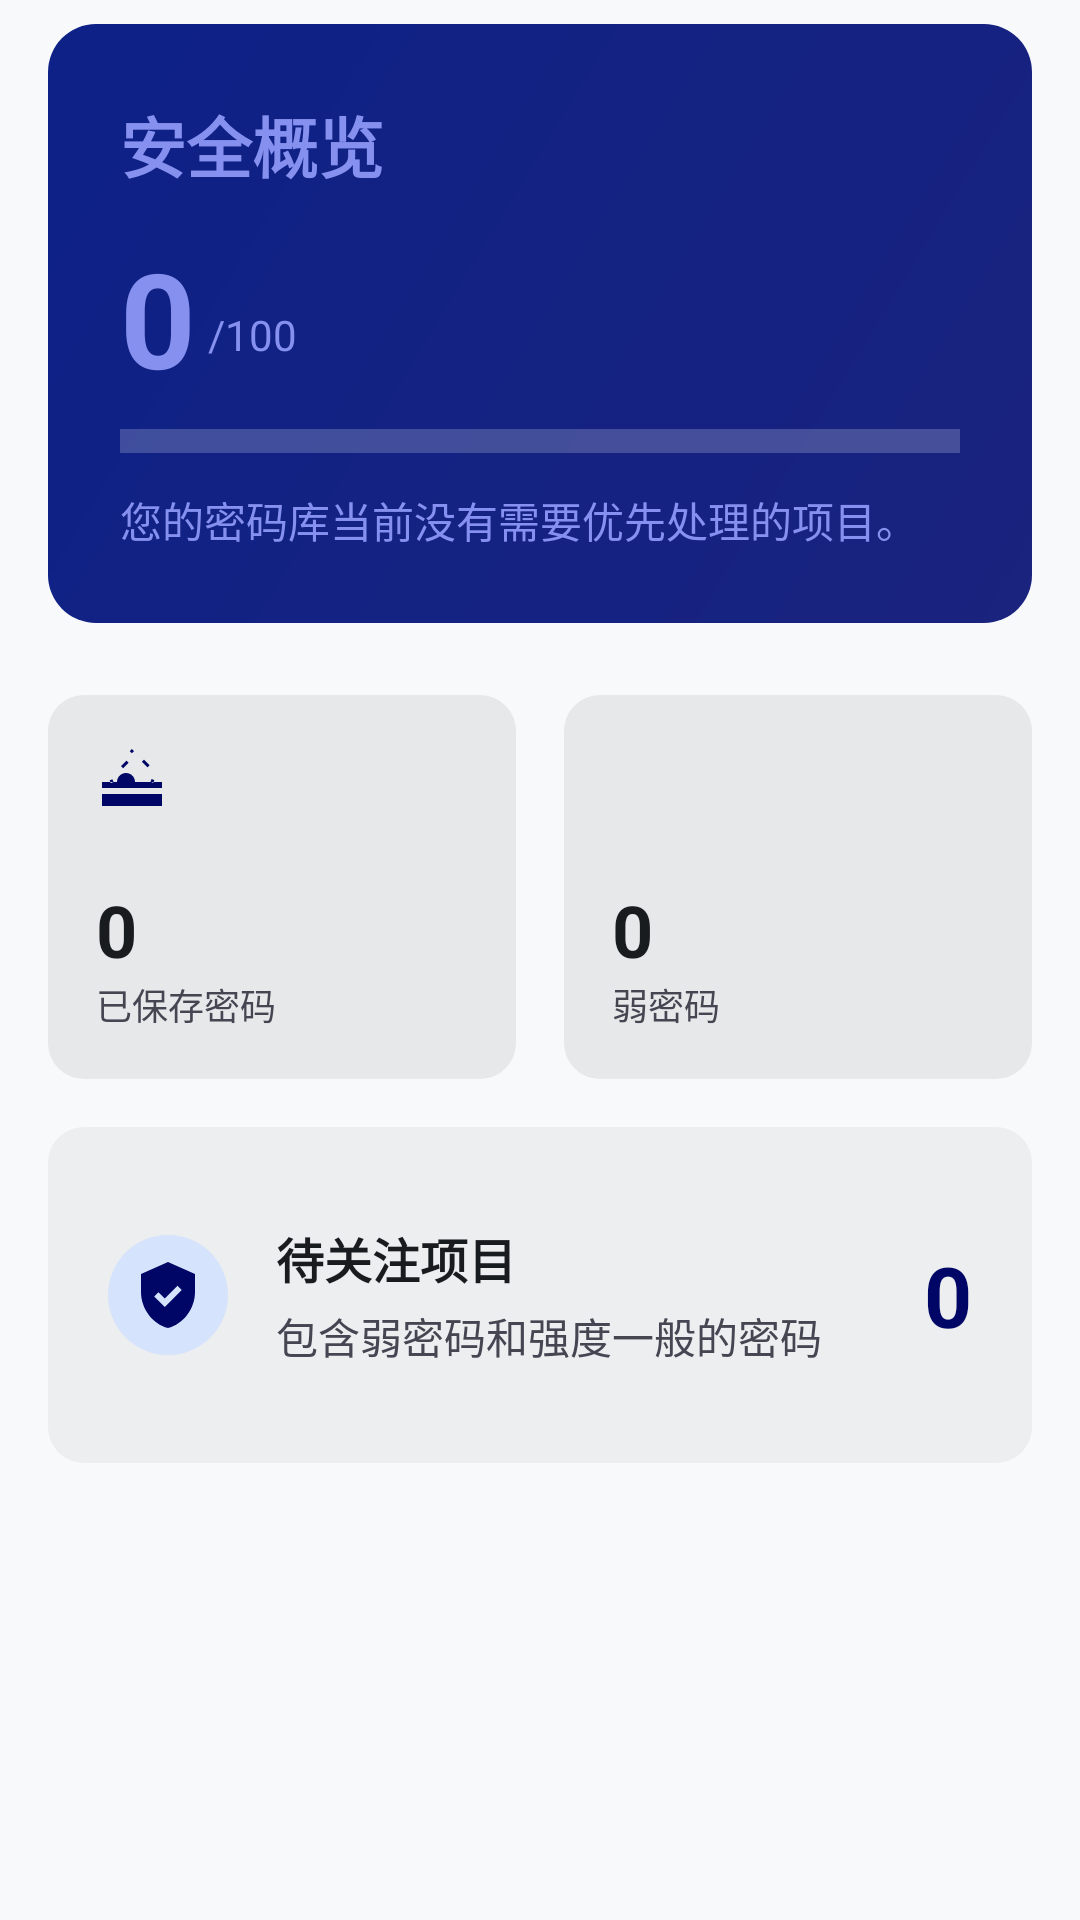

Named icons in this screenshot (1080 x 1920) and their bounding boxes, (x1=x1, y1=y1, x2=x2, y2=y2):
verified user: (x1=141, y1=1262, x2=195, y2=1328)
